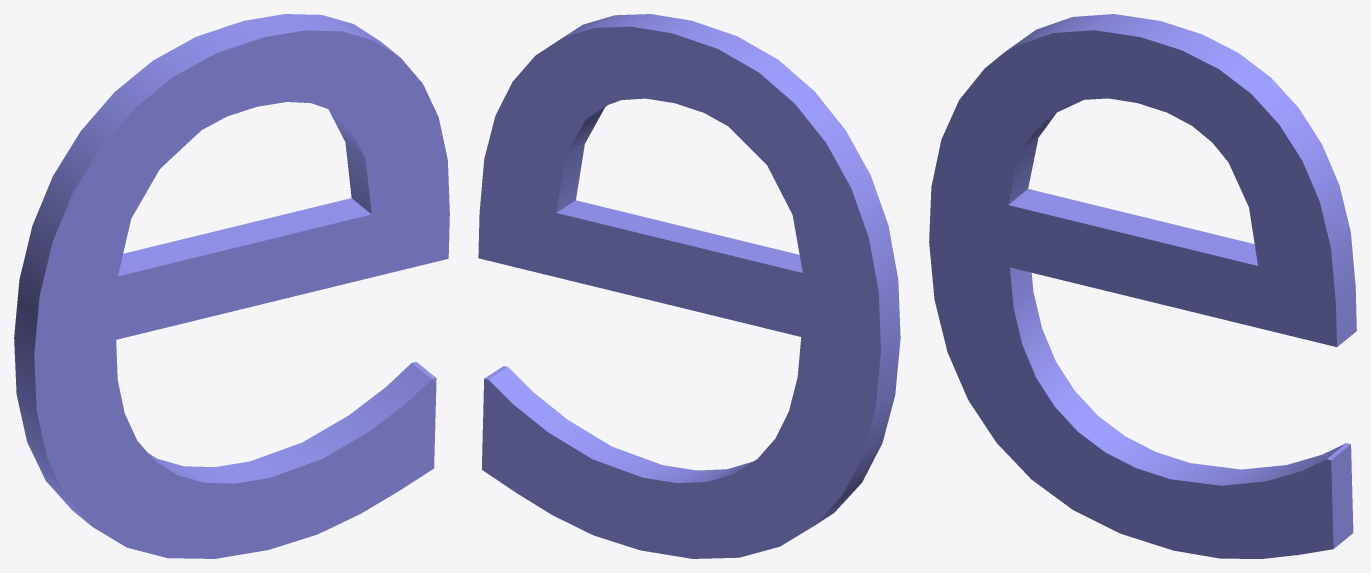
Rendered from original-11.obj.
3 views of the same model, side by side, from view 1: azimuth 30°, elevation 25°; view 2: azimuth 150°, elevation 25°; view 3: azimuth 330°, elevation 25° (orthographic). The views are drawn at different scales.
Parts seen in each view (by area): view 1: mesh15/mesh15-geometry#mesh15-geometry; view 2: mesh15/mesh15-geometry#mesh15-geometry; view 3: mesh15/mesh15-geometry#mesh15-geometry.
Boxes of the visible parts, box(x1,y1,x2,y2) form: mesh15/mesh15-geometry#mesh15-geometry: box(14, 14, 449, 558); mesh15/mesh15-geometry#mesh15-geometry: box(478, 14, 900, 558); mesh15/mesh15-geometry#mesh15-geometry: box(929, 14, 1356, 558).
Size of the model in its own units: 0.0303 by 0.037 by 0.00429.
